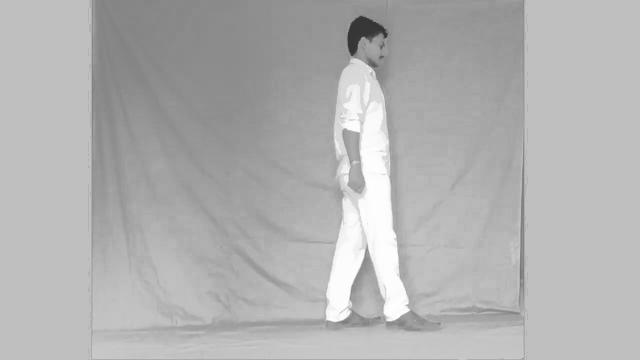berjalan: (320, 12, 440, 338)
